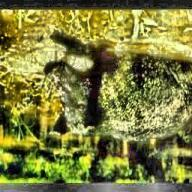boar: (45, 52, 191, 144)
